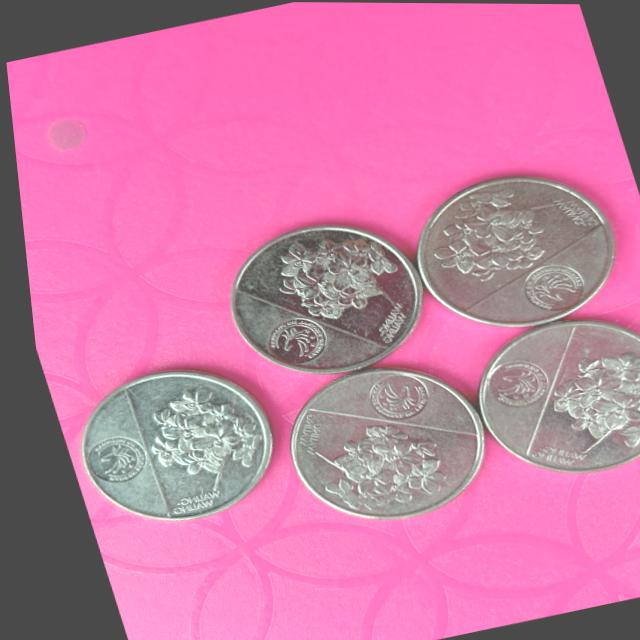1_New_Back: (120, 375, 268, 508), (403, 175, 561, 288), (300, 408, 466, 510), (263, 219, 403, 330), (522, 328, 640, 455)
